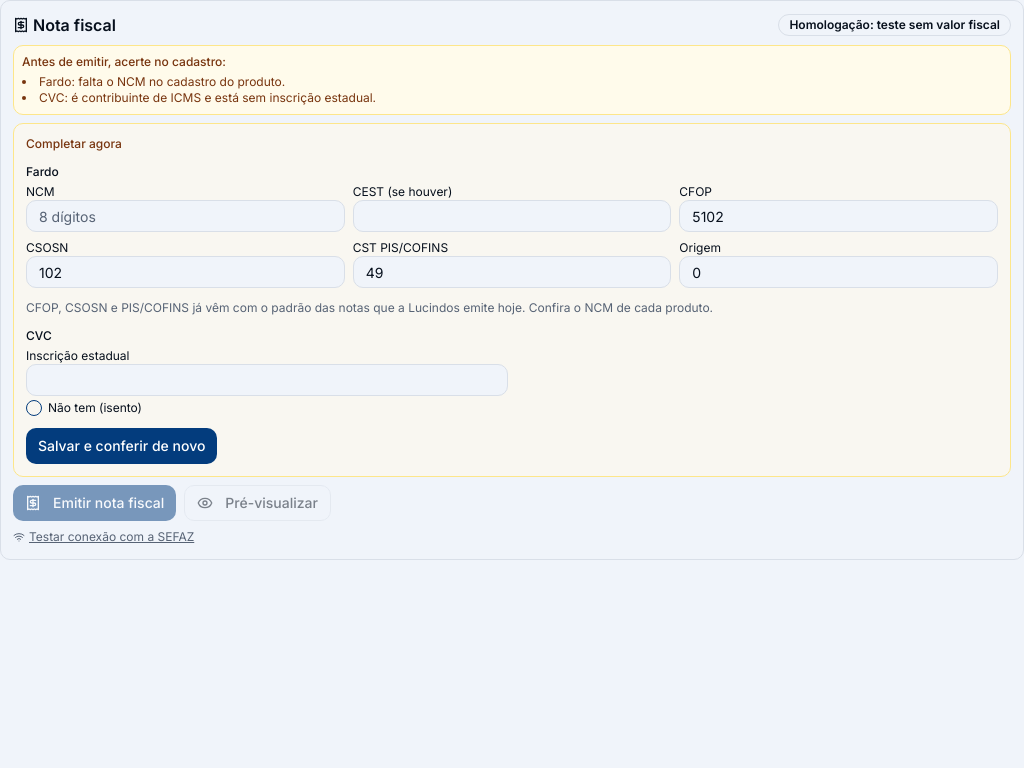
Test: Painel da nota fiscal › completar agora sugere o padrão das notas, grava e confere de novo
Expected: the text "Completar agora" is shown, left=26, top=136, right=122, bottom=151
Expected: the field showing "5102" is shown, left=679, top=200, right=998, bottom=232
Type "2201.90.00" into the field with placeholder "8 dígitos" at point(185, 216), box left=26, top=200, right=345, bottom=232
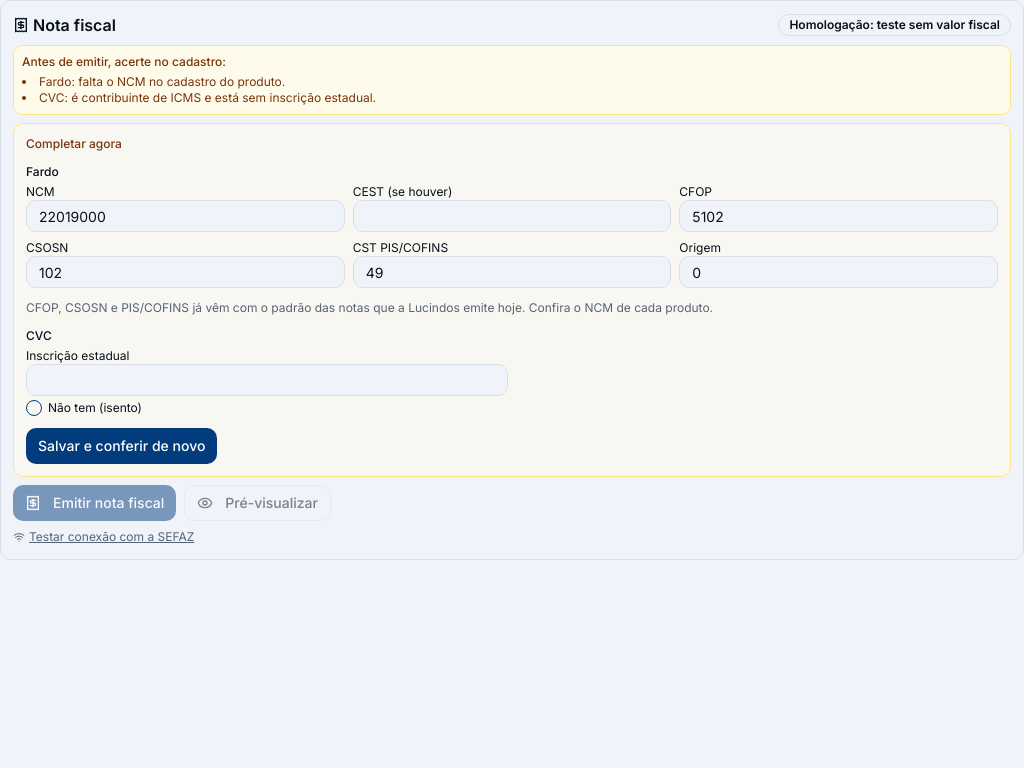
Click the text "Não tem (isento)" at point(84, 408), box left=26, top=400, right=142, bottom=416
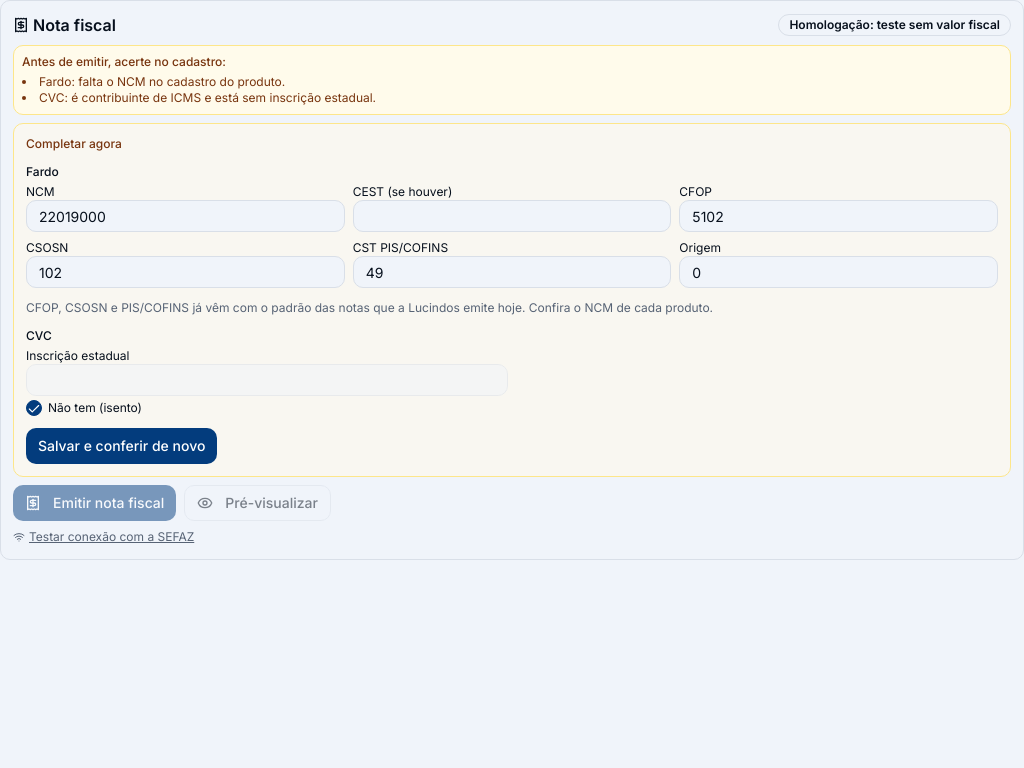
Click the button "Salvar e conferir de novo" at point(122, 446), box left=26, top=428, right=217, bottom=464
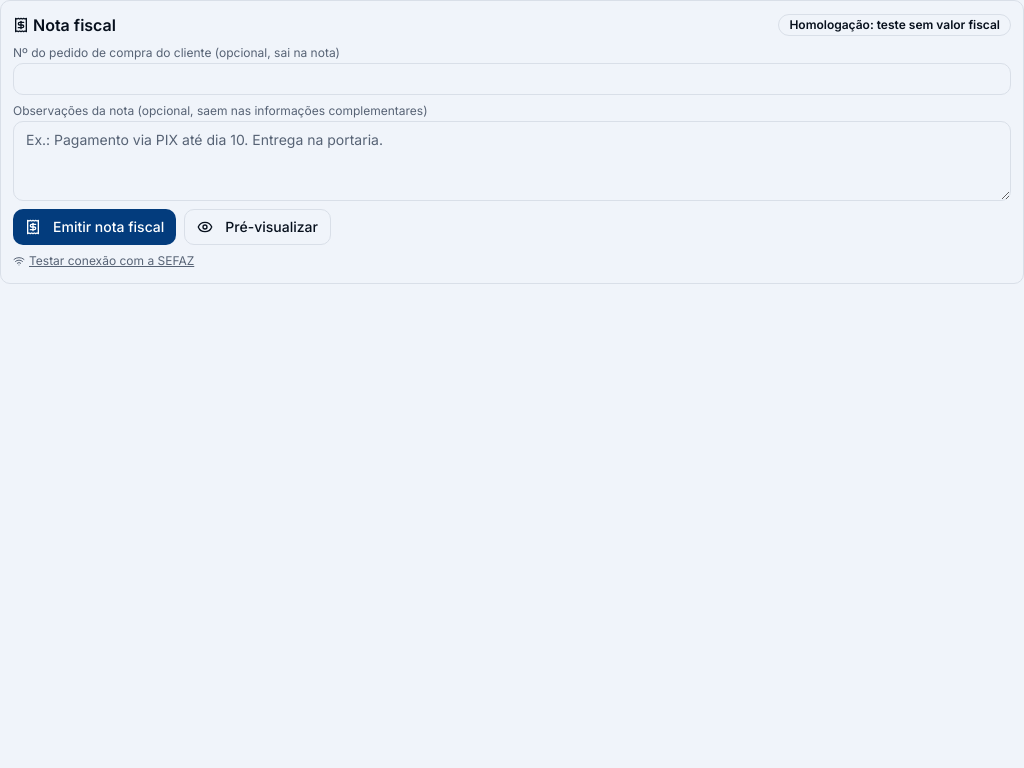
Result: the text "Completar agora" is gone
Result: the button "Emitir nota fiscal" is enabled at left=13, top=209, right=176, bottom=245
